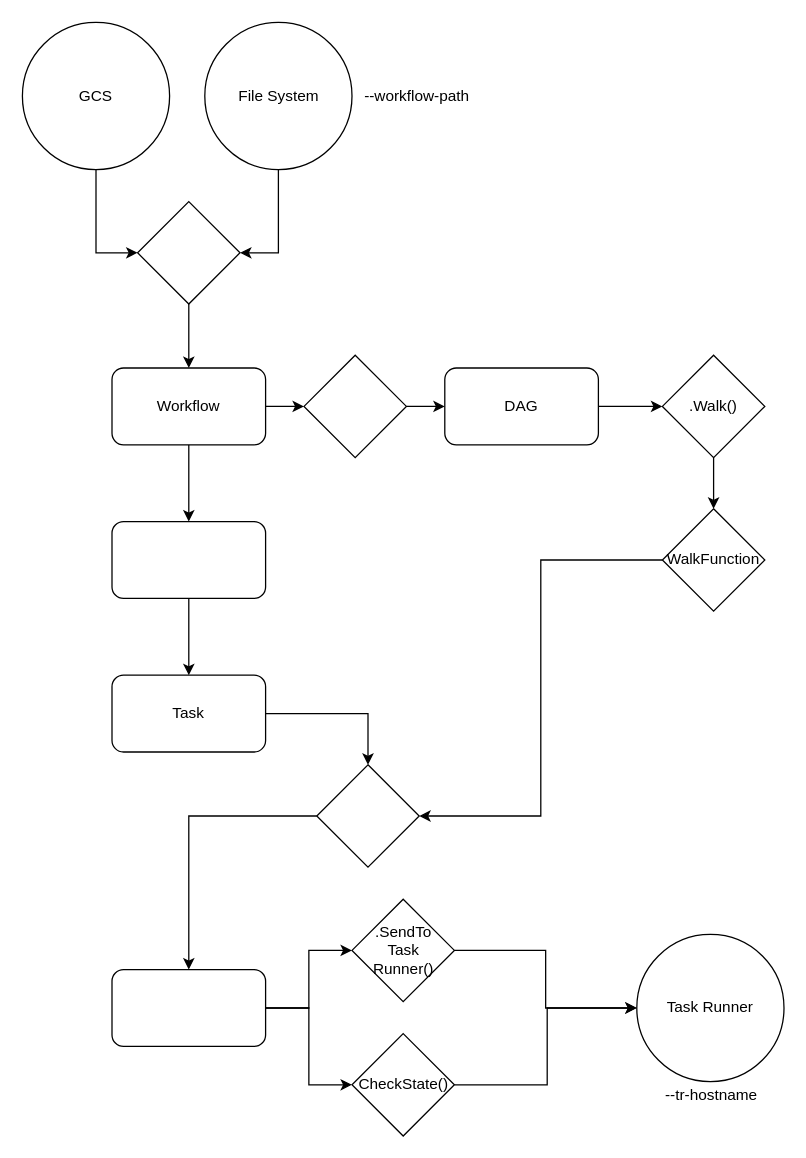
Some shapes in this 806 by 1158 pixel diagram are drawn without their labels. Each missing label, with the centre of its shape:
.DAG(): (x=354, y=406)
.Run(): (x=367, y=815)
Execution: (x=188, y=1007)
Parser: (x=188, y=252)
Step: (x=188, y=559)
